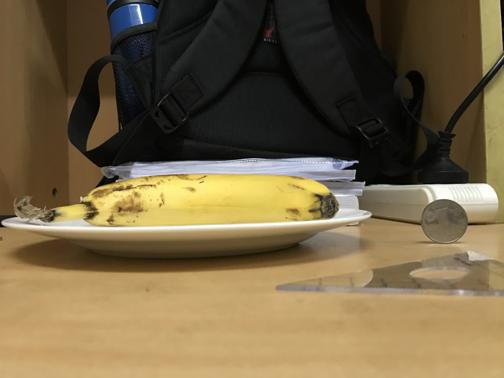banana: (52, 174, 335, 228)
coin: (420, 198, 467, 245)
